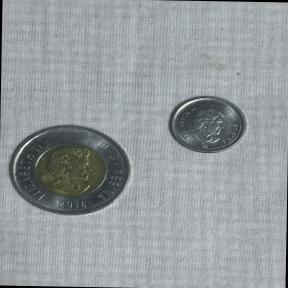Canada-10cent-B: (161, 91, 255, 161)
Canada-2Dollar-B: (4, 116, 143, 222)
